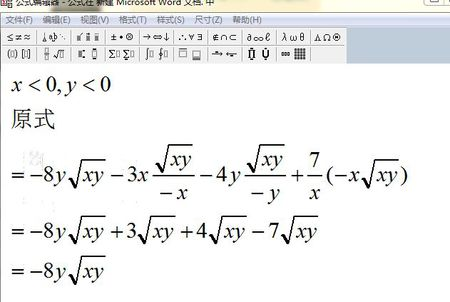division: (244, 171, 286, 181), (151, 173, 197, 179), (305, 172, 324, 178)
sqrt: (64, 156, 108, 191), (154, 140, 199, 174), (281, 211, 317, 249), (66, 253, 107, 286), (364, 155, 402, 189), (246, 141, 285, 173), (211, 213, 248, 245), (140, 214, 177, 246), (70, 214, 108, 243)
